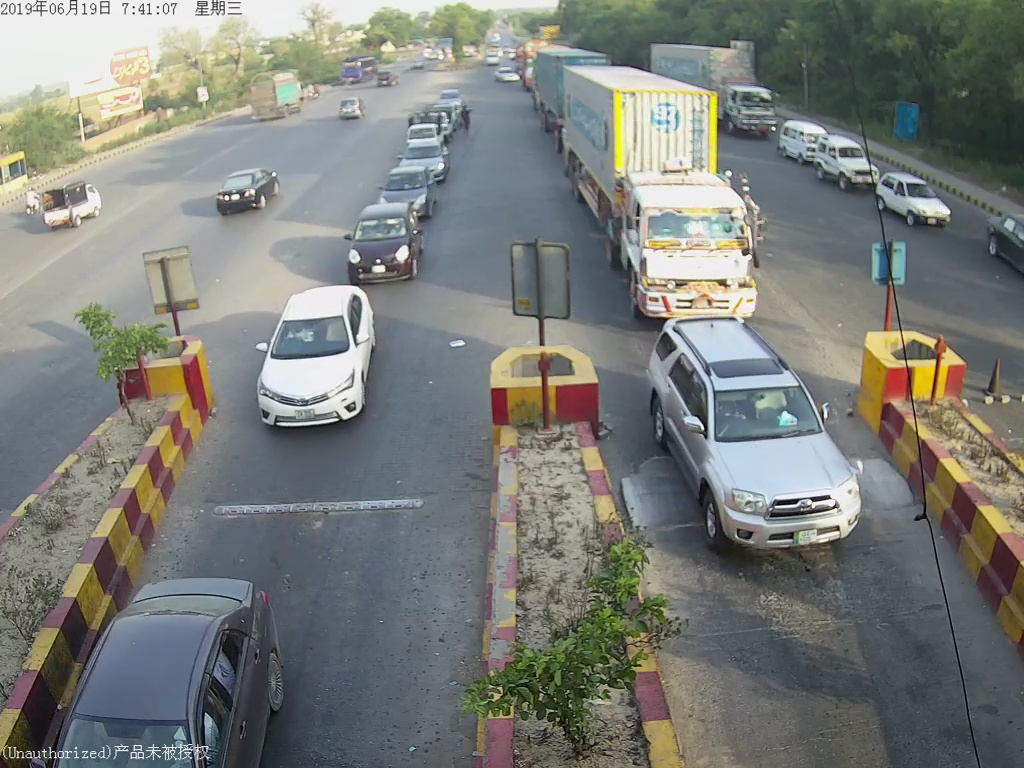Cat-1: (653, 331, 855, 539), (253, 288, 380, 420), (345, 208, 421, 280)
Cat-5: (567, 70, 770, 312)
